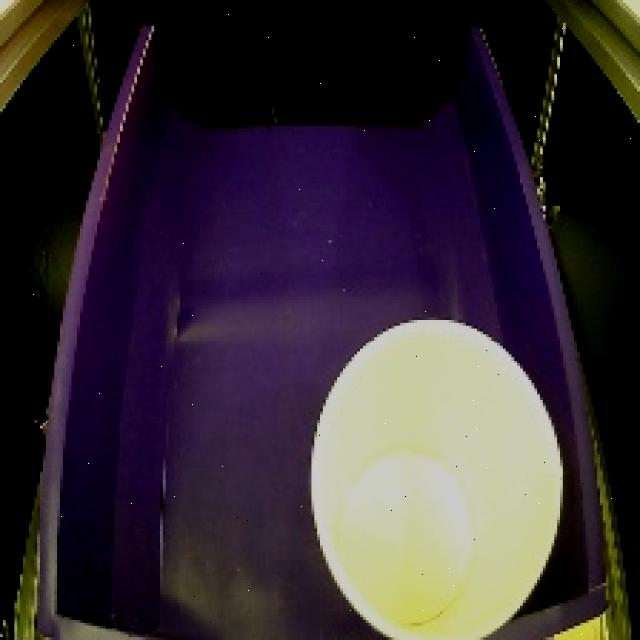cups: (302, 302, 574, 640)
